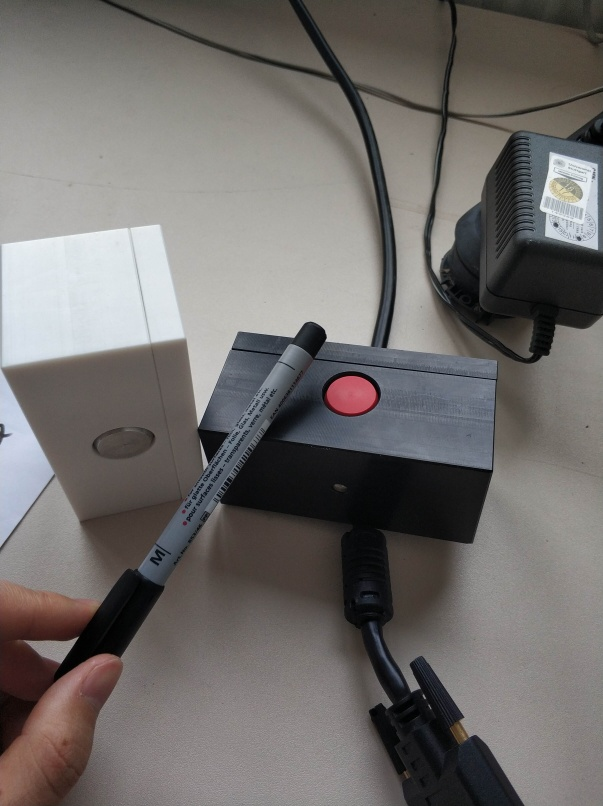black+black+red: (194, 324, 500, 547)
white+white+silver: (1, 221, 211, 532)
